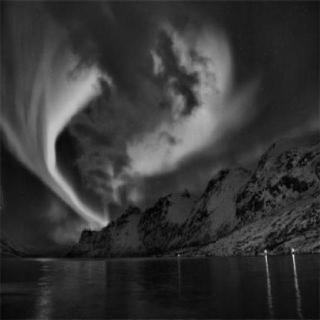other: (123, 56, 239, 166), (27, 83, 111, 227), (290, 245, 302, 277), (261, 240, 274, 262)
